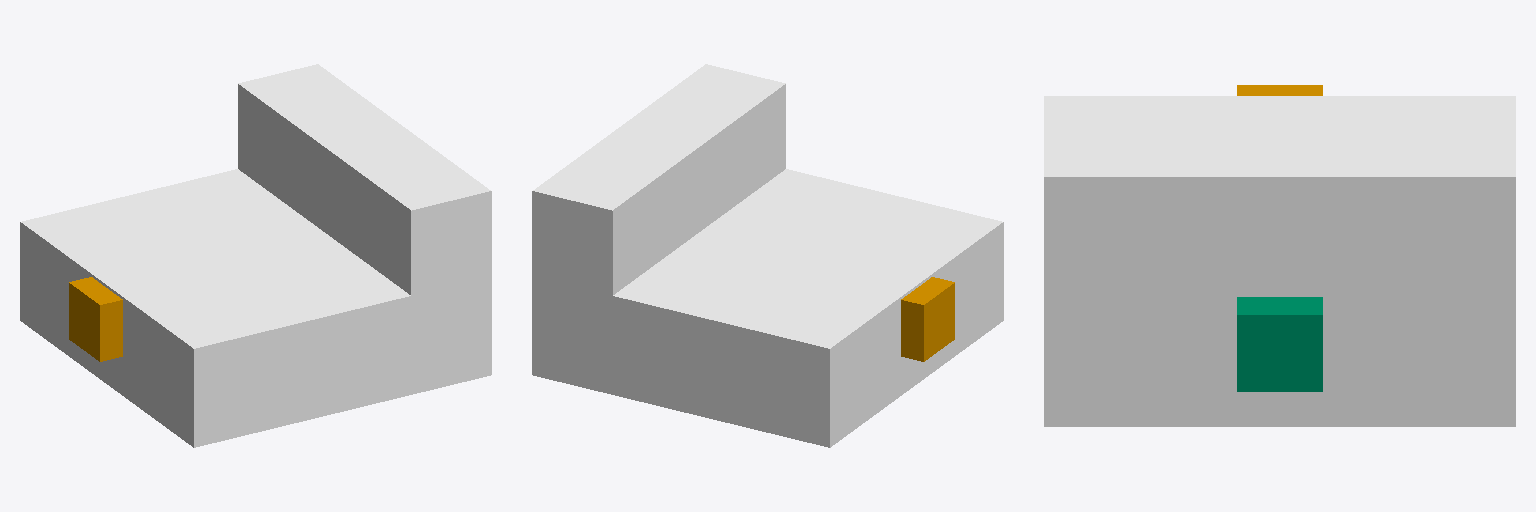
The robot description file, URDF, robot "conveyor_belt_dof1":
<?xml version="1.0"?>
<!-- =================================================================================== -->
<!-- |    This document was autogenerated by xacro from yaskawa7.urdf.xacro               | -->
<!-- |    EDITING THIS FILE BY HAND IS NOT RECOMMENDED                                 | -->
<!-- =================================================================================== -->
<robot name="conveyor_belt_dof1" xmlns:xacro="http://www.ros.org/wiki/xacro">
  <!-- Import Rviz colors -->


    <!-- LINKS -->
    <!-- virtual link interfacing with ee_mount on robot arm-->
    <link name="ee_base">
      <visual>
        <geometry>
          <box size="0.1 0.1 0.1"/>
        </geometry>
        <origin rpy="0 0 0" xyz="0 0 0"/>
      </visual>
    </link>

    <!-- links of cylinder base connected with the ee_base -->
    <link name="conveyor_belt_dof1_link">
      <visual>
        <material name="white">
          <color rgba="1.0 1.0 1.0 1.0"/>
        </material>
        <geometry>
          <mesh filename="../mesh/cbee_gripper_1st-collision.obj" />
        </geometry>
        <origin rpy="0 0 0" xyz="0 0 0"/>
      </visual>
      <collision>
        <material name="blue">
          <color rgba="0 0 1.0 1.0"/>
        </material>
        <geometry>
          <mesh filename="../mesh/cbee_gripper_1st-collision.obj" />
        </geometry>
        <origin rpy="0 0 0" xyz="0 0 0"/>
      </collision>
    </link>

    <!-- virtual link, equivlent of TCP (Tool Center Point) -->
    <link name="ee_tip_0">
      <visual>
        <geometry>
          <box size="0.1 0.1 0.1"/>
        </geometry>
        <origin rpy="0 0 0" xyz="0 0 0"/>
      </visual>
    </link>

    <!-- END LINKS -->

    <!-- JOINTS -->
    <!-- virtual joint, interfacing with arm -->
    <!-- <joint name="ee_base_joint" type="fixed">
      <parent link="ee_mount"/>
      <child link="ee_base"/>
      <origin xyz="0 0 0" rpy="0 0 0"/>
    </joint> -->

    <!-- virtual joint, connect ee_base to various link in end effector -->
    <joint name="conveyor_belt_dof1_joint" type="fixed">
      <parent link="ee_base"/>
      <child link="conveyor_belt_dof1_link"/>
      <origin xyz="0 0 0" rpy="0 0 0"/>
    </joint>

    <!-- virtual joint point to ee_tip_<number> (TCP) -->
    <joint name="ee_tip_0_joint" type="fixed">
      <parent link="ee_base"/>
      <child link="ee_tip_0"/>
      <origin xyz="0.54 0 0" rpy="0 0 0"/>
    </joint>

    <!-- END JOINTS -->

  <!--Extensions -->
  <!-- Load Gazebo lib and set the robot namespace -->
  <gazebo>
    <plugin filename="libgazebo_ros_control.so" name="gazebo_ros_controller">
      <robotNamespace>/yaskawa_ee</robotNamespace>
    </plugin>
  </gazebo>
  <!-- Link0 -->
  <gazebo reference="ee_base">
    <material>Gazebo/Grey</material>
    <mu1>0.2</mu1>
    <mu2>0.2</mu2>
  </gazebo>
  <!-- Link0 -->
  <gazebo reference="conveyor_belt_dof1_link">
    <material>Gazebo/Grey</material>
    <mu1>0.2</mu1>
    <mu2>0.2</mu2>
  </gazebo>  
  <!-- Link0 -->
  <gazebo reference="ee_tip_0">
    <material>Gazebo/Grey</material>
    <mu1>0.2</mu1>
    <mu2>0.2</mu2>
  </gazebo>


<!-- <transmission name="yaskawa_tran_1">
    <robotNamespace>/yaskawa</robotNamespace>
    <type>transmission_interface/SimpleTransmission</type>
    <joint name="ee_base_joint">
      <hardwareInterface>PositionJointInterface</hardwareInterface>
    </joint>
    <actuator name="yaskawa_motor_1">
      <hardwareInterface>PositionJointInterface</hardwareInterface>
      <mechanicalReduction>1</mechanicalReduction>
    </actuator>
  </transmission> -->

<transmission name="yaskawa_tran_1">
    <robotNamespace>/yaskawa</robotNamespace>
    <type>transmission_interface/SimpleTransmission</type>
    <joint name="conveyor_belt_dof1_joint">
      <hardwareInterface>PositionJointInterface</hardwareInterface>
    </joint>
    <actuator name="yaskawa_motor_1">
      <hardwareInterface>PositionJointInterface</hardwareInterface>
      <mechanicalReduction>1</mechanicalReduction>
    </actuator>
  </transmission>


<transmission name="yaskawa_tran_1">
    <robotNamespace>/yaskawa</robotNamespace>
    <type>transmission_interface/SimpleTransmission</type>
    <joint name="ee_tip_0_joint">
      <hardwareInterface>PositionJointInterface</hardwareInterface>
    </joint>
    <actuator name="yaskawa_motor_1">
      <hardwareInterface>PositionJointInterface</hardwareInterface>
      <mechanicalReduction>1</mechanicalReduction>
    </actuator>
  </transmission>

</robot>

--- Facts derived from the render (not from the file) ---
3 views of the same robot in one strip: view 1: azimuth 30°, elevation 25°; view 2: azimuth 150°, elevation 25°; view 3: azimuth 270°, elevation 25° (orthographic).
Model conveyor_belt_dof1 with 3 links and 2 joints (2 fixed), rooted at ee_base, posed every joint at zero.
Visible links, largest first — view 1: conveyor_belt_dof1_link, ee_base; view 2: conveyor_belt_dof1_link, ee_base; view 3: conveyor_belt_dof1_link, ee_tip_0, ee_base.
Boxes of the visible links, left/top/right/bottom form: conveyor_belt_dof1_link: left=20, top=64, right=491, bottom=447; ee_base: left=69, top=277, right=122, bottom=361; conveyor_belt_dof1_link: left=532, top=64, right=1003, bottom=447; ee_base: left=901, top=277, right=954, bottom=361; conveyor_belt_dof1_link: left=1044, top=96, right=1515, bottom=426; ee_tip_0: left=1237, top=297, right=1322, bottom=391; ee_base: left=1237, top=85, right=1322, bottom=95.
Size in the robot's own frame: 0.64 by 0.553 by 0.3242 metres.
1 mesh visuals loaded from 1 distinct referenced files (1 OBJ).